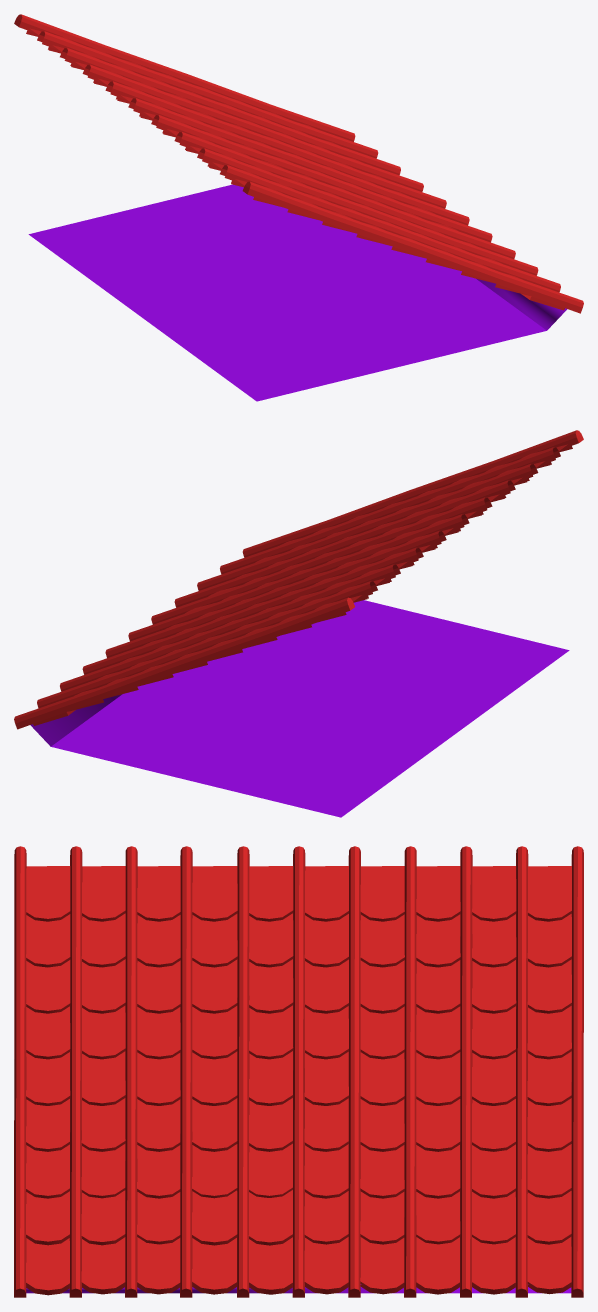
File: SM_RoofMid.fbx
The picture shows the model from 3 angles, top to bottom: view 1: azimuth 30°, elevation 25°; view 2: azimuth 150°, elevation 25°; view 3: azimuth 270°, elevation 25°; orthographic projection. The views are drawn at different scales.
Parts seen in each view (by area): view 1: MidRoof_pCube614; view 2: MidRoof_pCube614; view 3: MidRoof_pCube614.
Boxes of the visible parts, box(x1,y1,x2,y2) form: MidRoof_pCube614: box(14, 14, 583, 401); MidRoof_pCube614: box(14, 430, 583, 817); MidRoof_pCube614: box(14, 846, 583, 1297).
Bounding box in the file's own units: 256 × 161 × 307.
